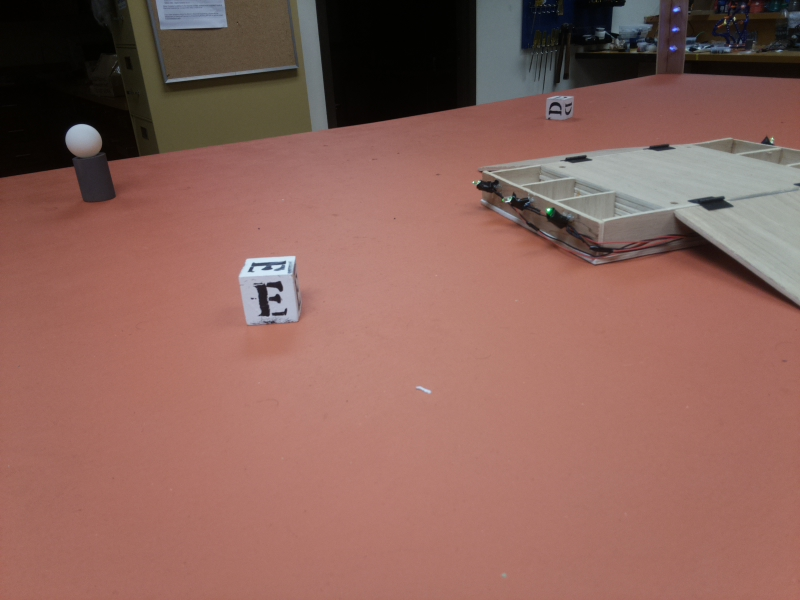blockD: (544, 94, 574, 125)
blockE: (240, 255, 299, 328)
obstacle: (62, 123, 120, 206)
side: (479, 166, 607, 268), (730, 133, 800, 151)
slope: (670, 182, 800, 316), (489, 142, 689, 164)
